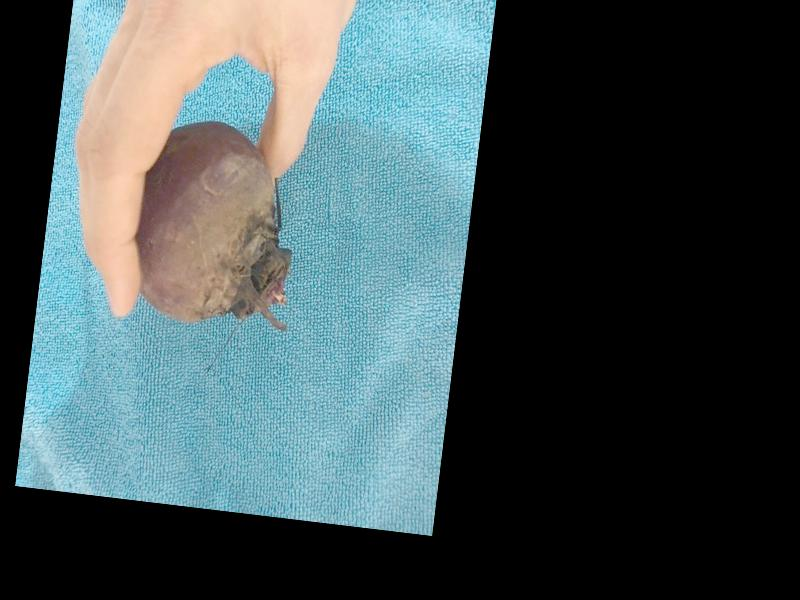Beet: (128, 115, 309, 332)
